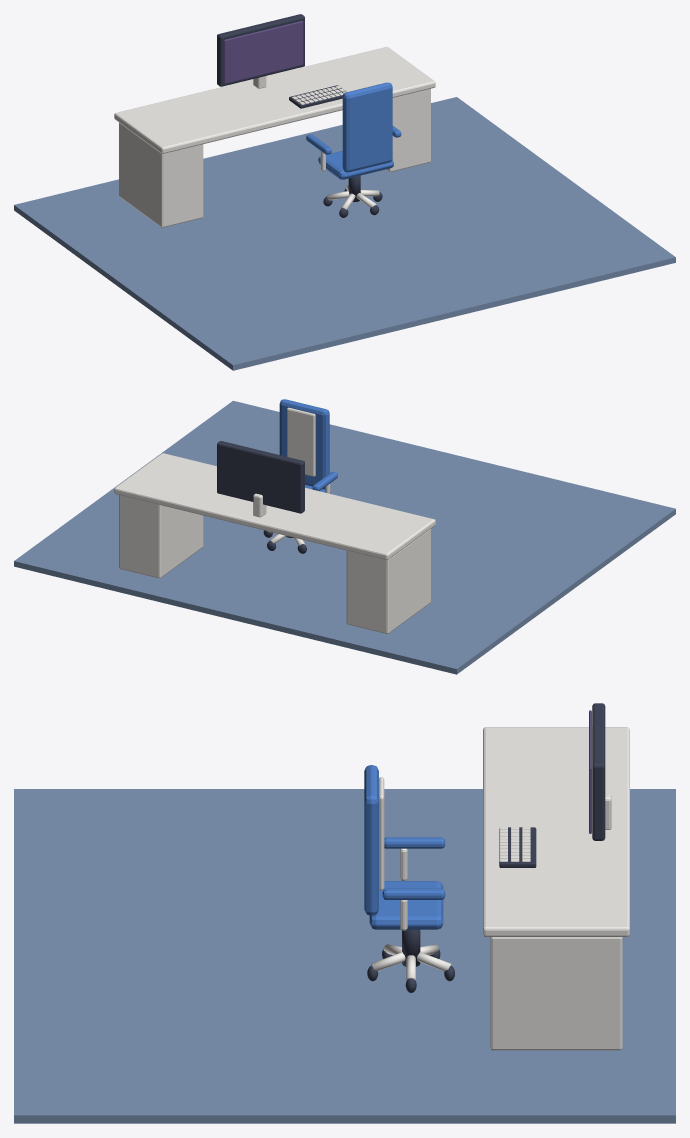
The model's file is fixture-proof.glb.
The picture shows the model from 3 angles, top to bottom: view 1: azimuth 30°, elevation 25°; view 2: azimuth 150°, elevation 25°; view 3: azimuth 270°, elevation 25°; orthographic projection. The views are drawn at different scales.
Visible parts, largest first — view 1: fixture-floor, desk, desk-pedestal, chair-back, monitor-screen-proof, desk-pedestal.001, monitor-proof, chair-seat; view 2: fixture-floor, desk, desk-pedestal, desk-pedestal.001, monitor-proof, chair-back, chair-back-insert; view 3: fixture-floor, desk, desk-pedestal.001, chair-seat, chair-back, monitor-proof, chair-arm.001, chair-arm, keyboard-proof, chair-back-insert.
Part boxes in pixels (x1,y1,x2,y2): fixture-floor: [14, 97, 675, 370]; desk: [114, 47, 435, 153]; desk-pedestal: [119, 122, 203, 227]; chair-back: [342, 82, 392, 172]; monitor-screen-proof: [224, 21, 303, 83]; desk-pedestal.001: [386, 88, 430, 172]; monitor-proof: [217, 14, 304, 86]; chair-seat: [318, 151, 393, 179]; fixture-floor: [14, 400, 675, 674]; desk: [114, 453, 435, 560]; desk-pedestal: [346, 529, 430, 633]; desk-pedestal.001: [119, 495, 203, 578]; monitor-proof: [217, 441, 304, 513]; chair-back: [279, 399, 329, 489]; chair-back-insert: [287, 407, 315, 476]; fixture-floor: [14, 789, 675, 1123]; desk: [483, 727, 629, 936]; desk-pedestal.001: [490, 937, 622, 1050]; chair-seat: [369, 881, 443, 929]; chair-back: [364, 765, 378, 915]; monitor-proof: [592, 703, 605, 840]; chair-arm.001: [382, 888, 445, 899]; chair-arm: [384, 837, 445, 848]; keyboard-proof: [499, 827, 536, 867]; chair-back-insert: [379, 777, 384, 890].
Bounding box in the file's own units: 4.2 × 1.36 × 3.6.
